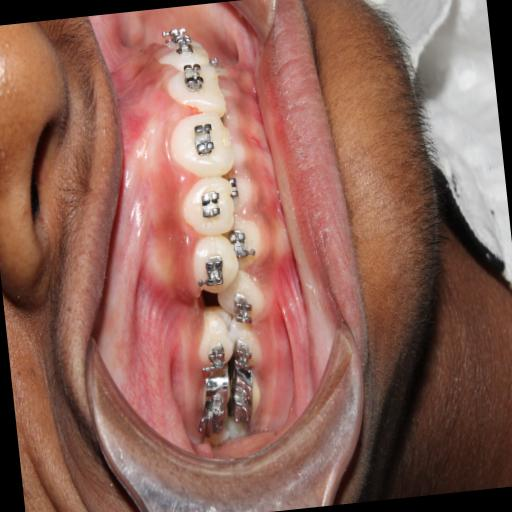correct_brace: (184, 116, 224, 163), (190, 184, 230, 226), (196, 248, 234, 290)
incorrect_brace: (182, 171, 238, 236)
